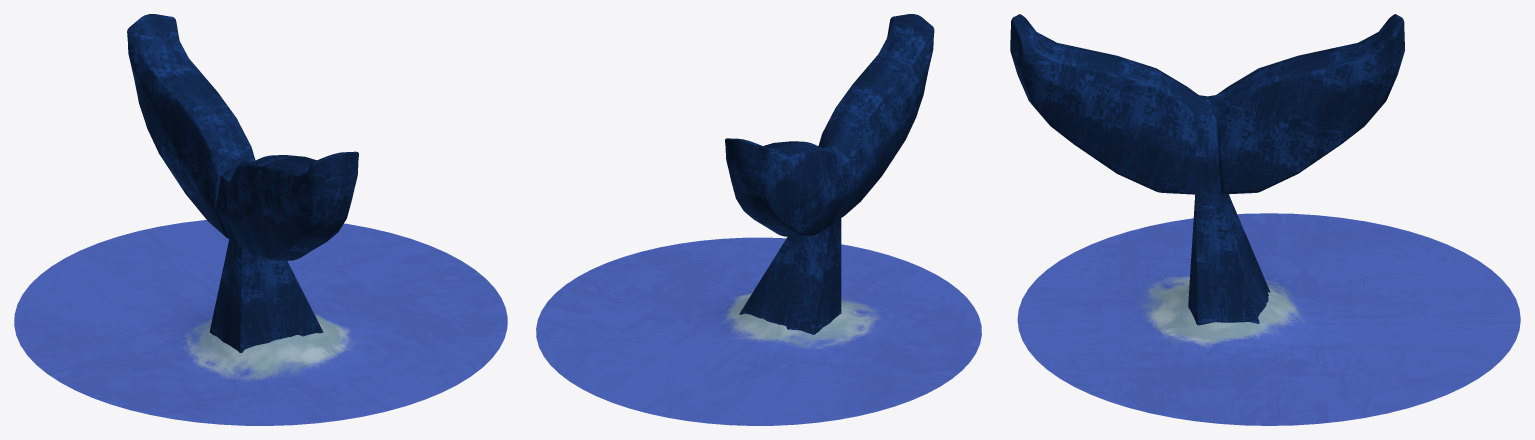
The model's file is Whale.glb.
3 renders of one model, left to right at view 1: azimuth 30°, elevation 25°; view 2: azimuth 150°, elevation 25°; view 3: azimuth 270°, elevation 25°, orthographic. The views are drawn at different scales.
Visible parts, largest first — view 1: Whale; view 2: Whale; view 3: Whale.
Boxes of the visible parts, x1,y1,x2,y2 form: Whale: [14, 14, 507, 425]; Whale: [536, 14, 981, 425]; Whale: [1010, 14, 1520, 425].
Bounding box in the file's own units: 4.48 × 3.02 × 4.55.
2 materials, 2 textured.
